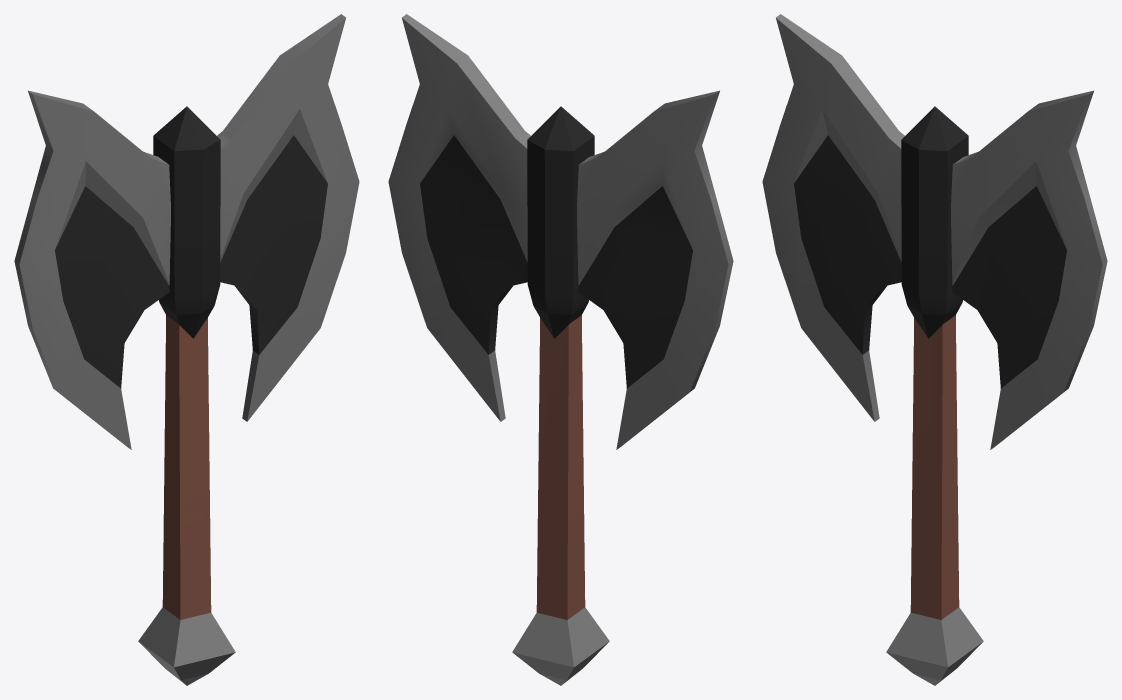
The picture shows the model from 3 angles, left to right: view 1: azimuth 30°, elevation 25°; view 2: azimuth 150°, elevation 25°; view 3: azimuth 330°, elevation 25°; orthographic projection.
Parts seen in each view (by area): view 1: Ax_J; view 2: Ax_J; view 3: Ax_J.
Boxes of the visible parts, x1,y1,x2,y2 form: Ax_J: (14,14,359,685); Ax_J: (388,14,733,685); Ax_J: (762,14,1107,685).
Size of the model in its own units: 79.93 by 142 by 14.56.
